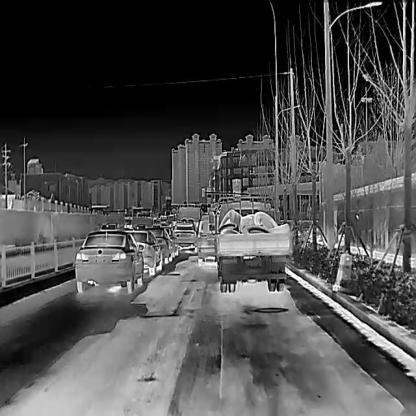car: (207, 192, 293, 292), (75, 228, 144, 294), (125, 229, 163, 276), (146, 224, 174, 264), (199, 208, 219, 263), (172, 216, 199, 254), (157, 223, 179, 257)
